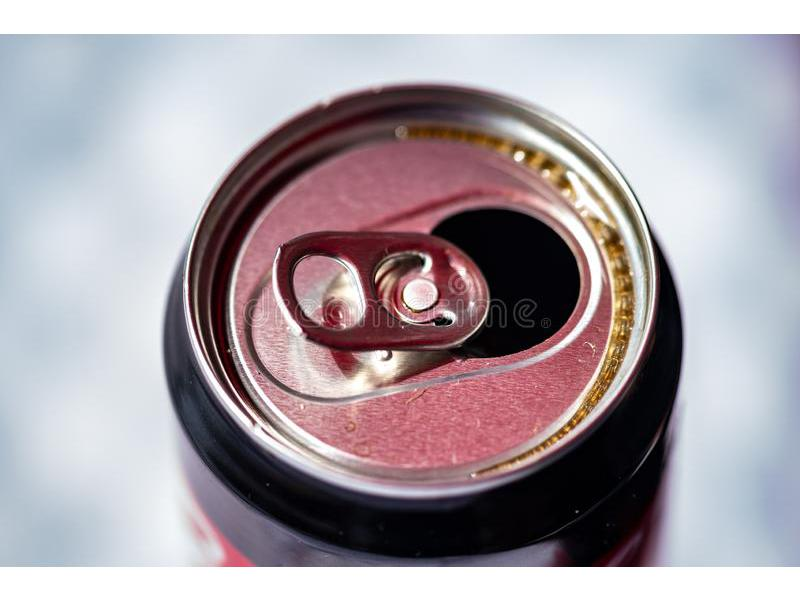can: (147, 56, 721, 566)
